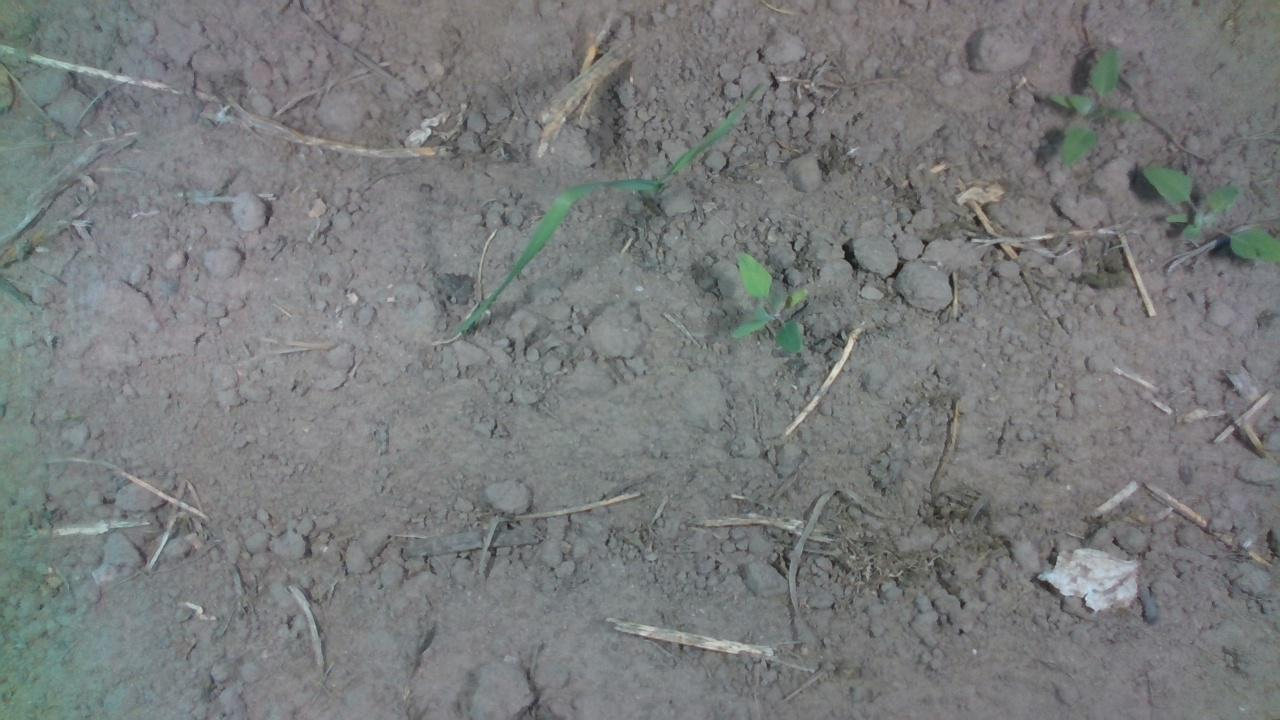weed: (1047, 46, 1141, 168), (726, 249, 808, 354)
